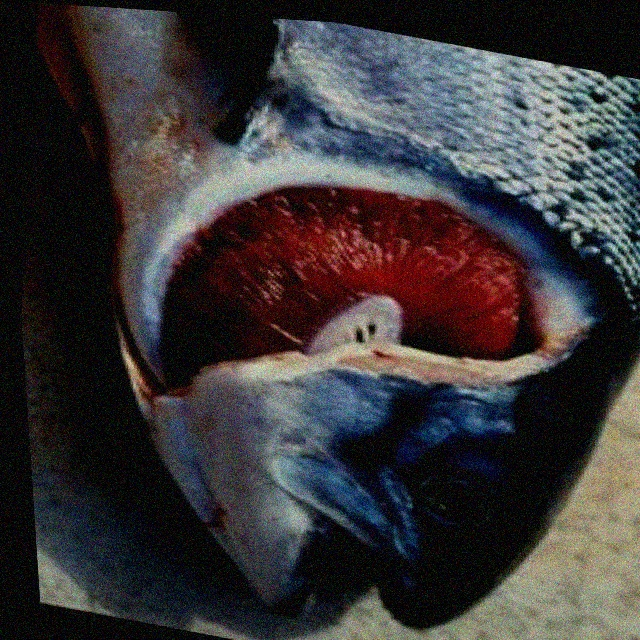Gill Disease: (95, 28, 639, 527)
